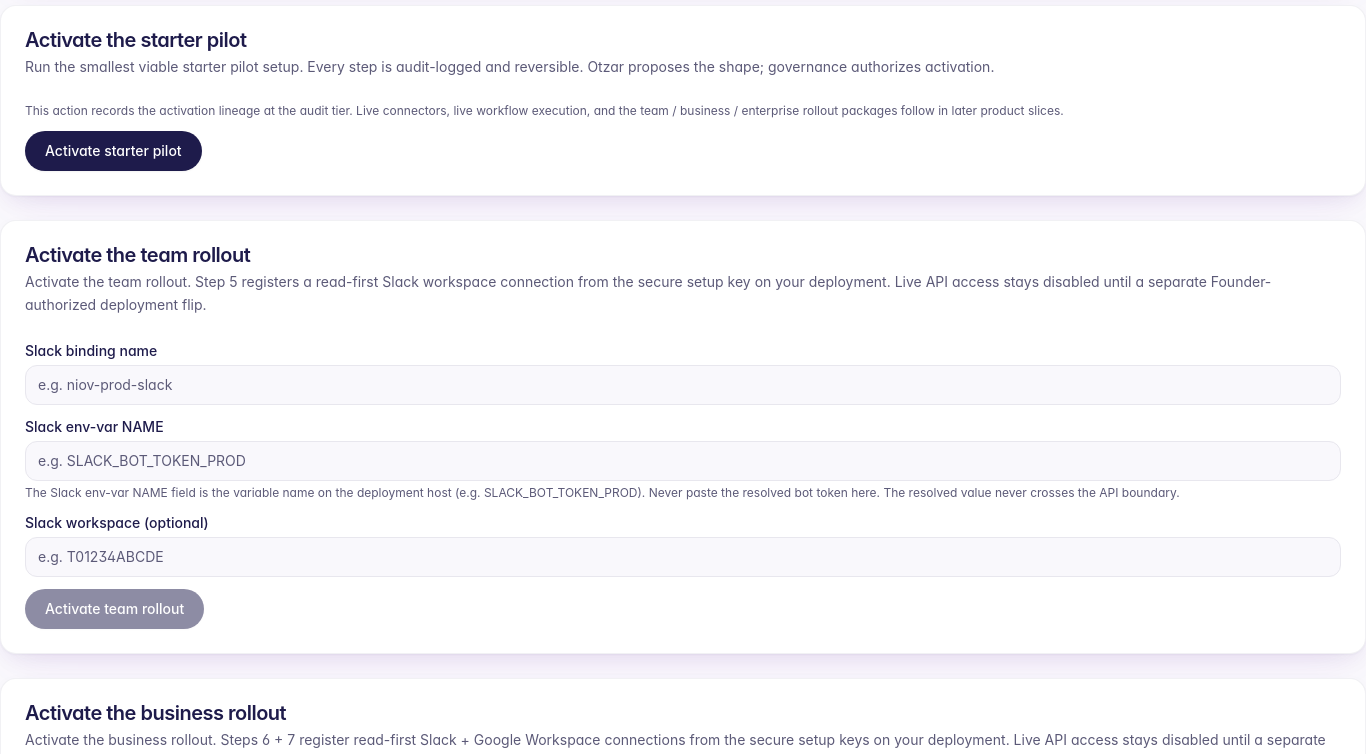
D6 team — failure paths › renders the helpful message on INVALID_SLACK_BINDING_INPUT 422
(page scrolled)
Type "x" into the field with test id "team-slack-display-name-input". click: (683, 384)
box: [25,364,1341,404]
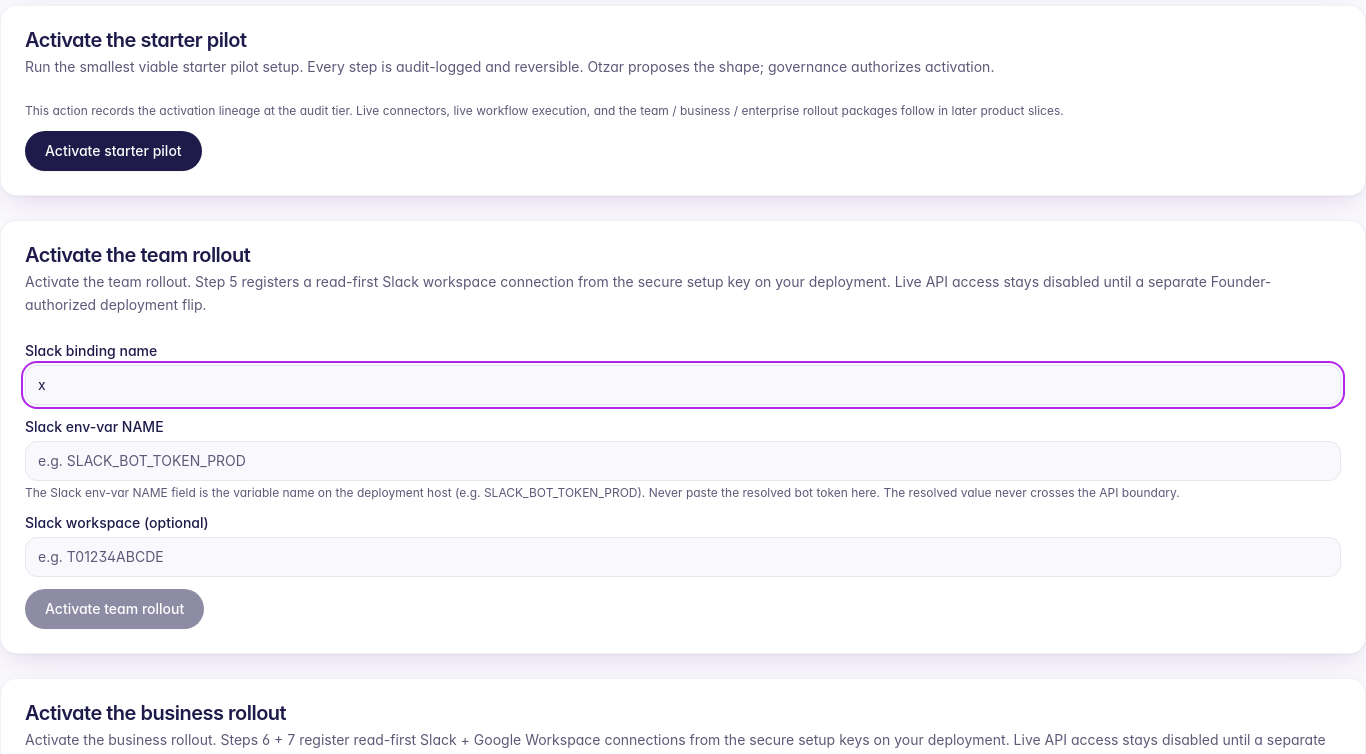
Type "Y" into the field with test id "team-slack-secret-ref-input". click: (683, 460)
box: [25,440,1341,480]
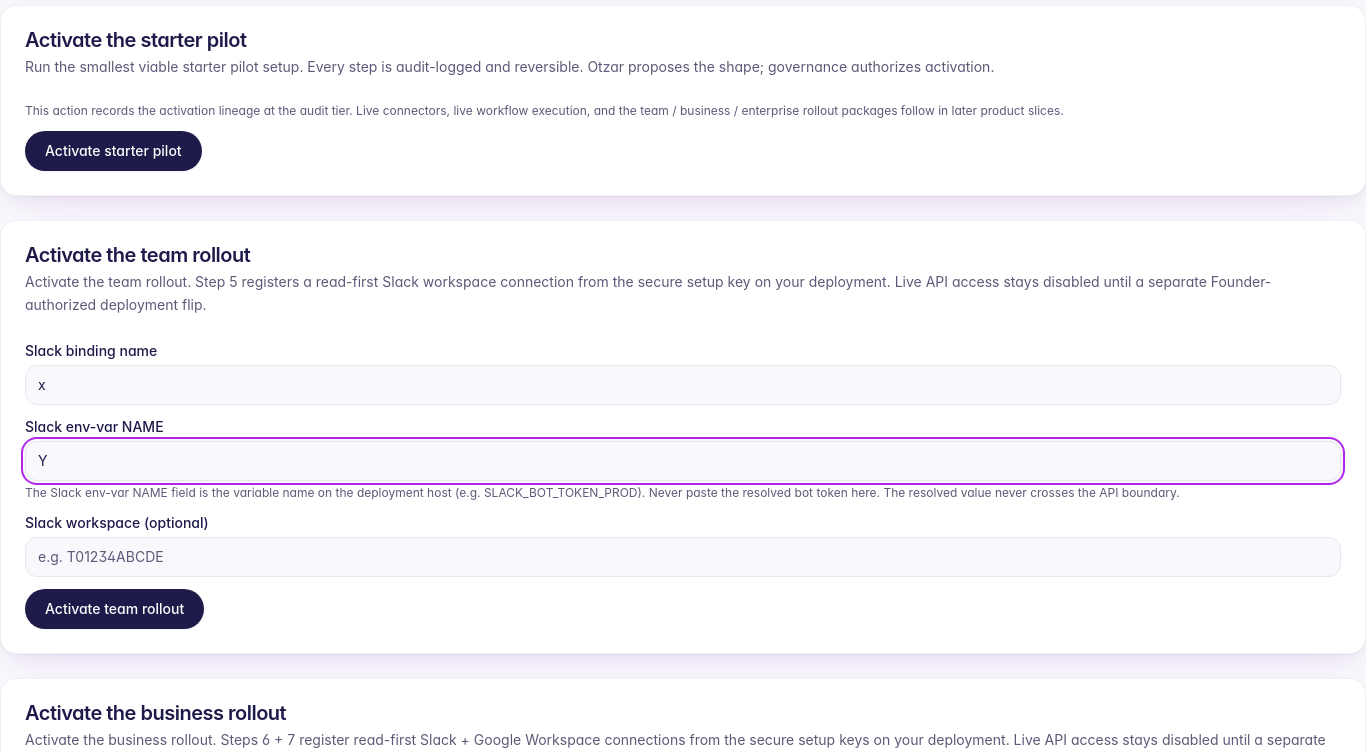
Click the button with test id "activate-team-button". click: (115, 608)
box: [25,588,204,628]
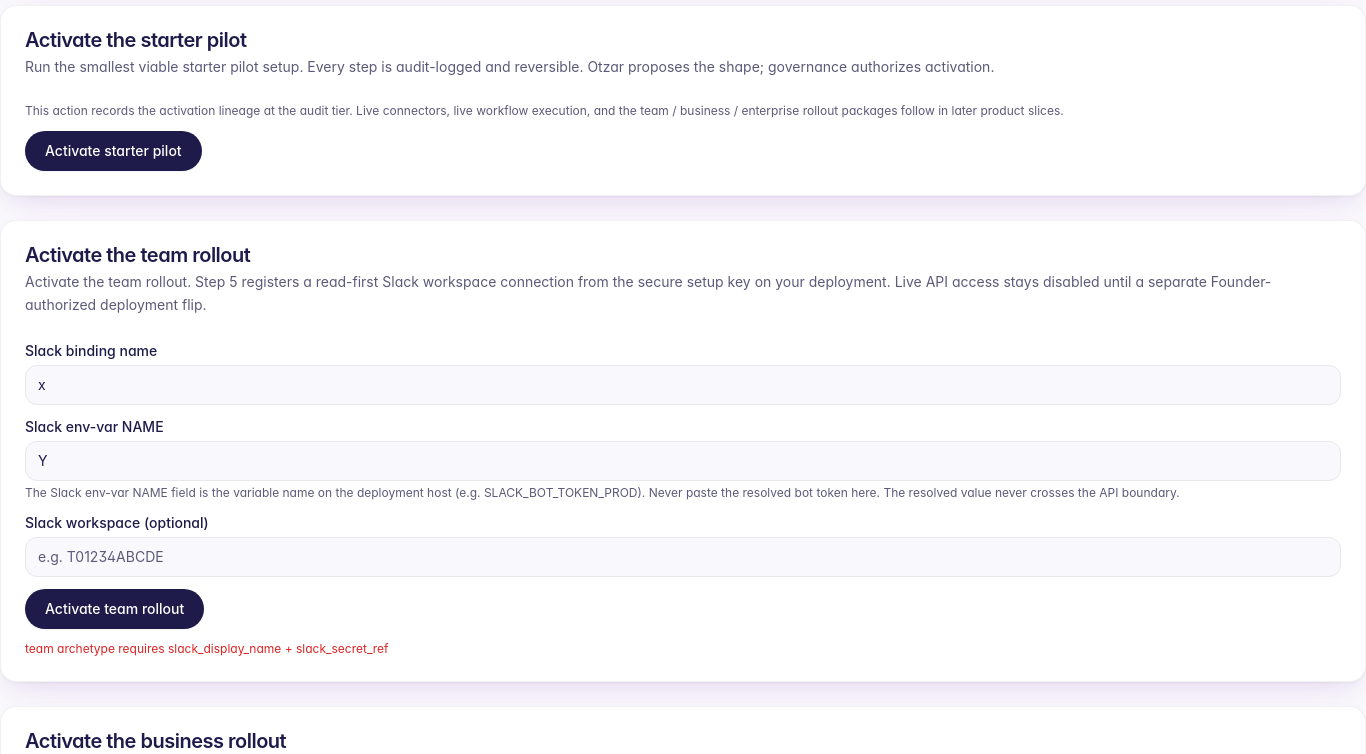
Expected: the text with test id "team-activation-error" is shown, [25,640,388,656]
